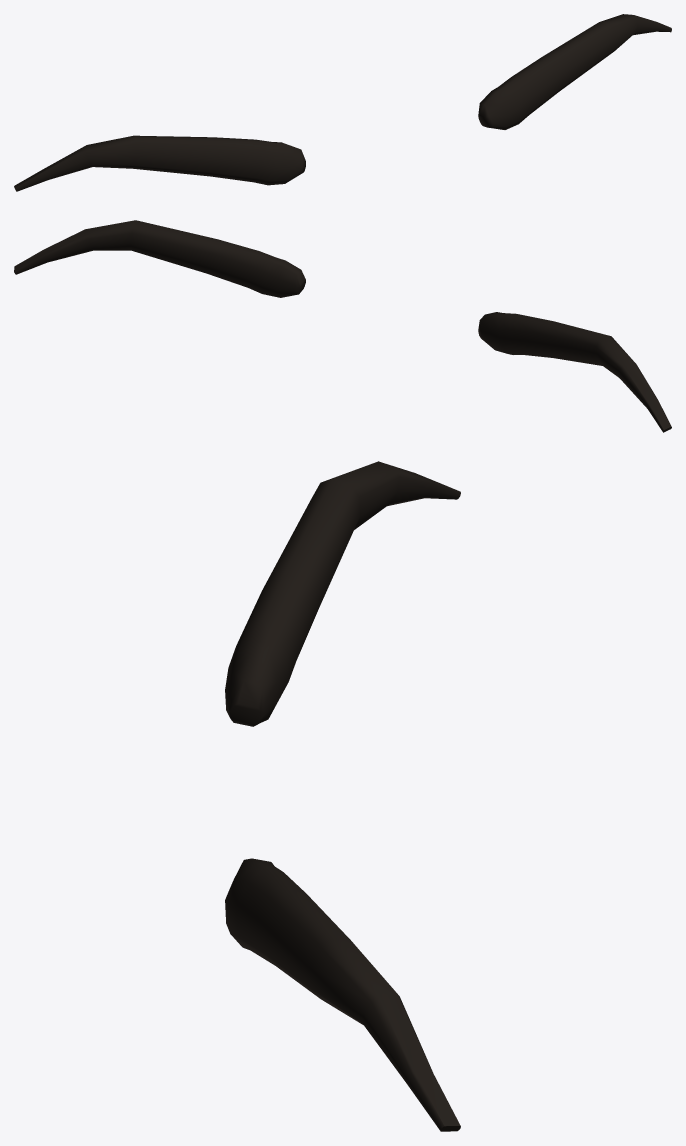
File: Eyebrows_14_01.fbx
3 renders of one model, top to bottom at view 1: azimuth 30°, elevation 25°; view 2: azimuth 150°, elevation 25°; view 3: azimuth 270°, elevation 25°, orthographic. The views are drawn at different scales.
Visible parts, largest first — view 1: Eyebrows_14_01; view 2: Eyebrows_14_01; view 3: Eyebrows_14_01.
Boxes of the visible parts, box(x1,y1,x2,y2) form: Eyebrows_14_01: box(14, 14, 671, 191); Eyebrows_14_01: box(14, 220, 671, 432); Eyebrows_14_01: box(225, 461, 460, 1131).
Size of the model in its own units: 19.11 by 1.7 by 2.97.
